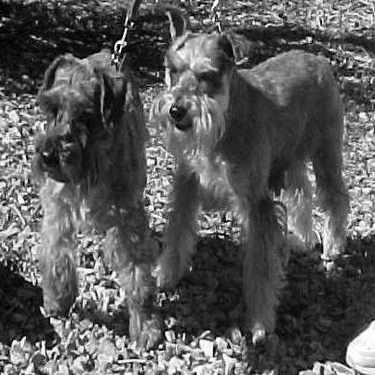dog: (148, 2, 355, 346), (29, 43, 166, 353)
